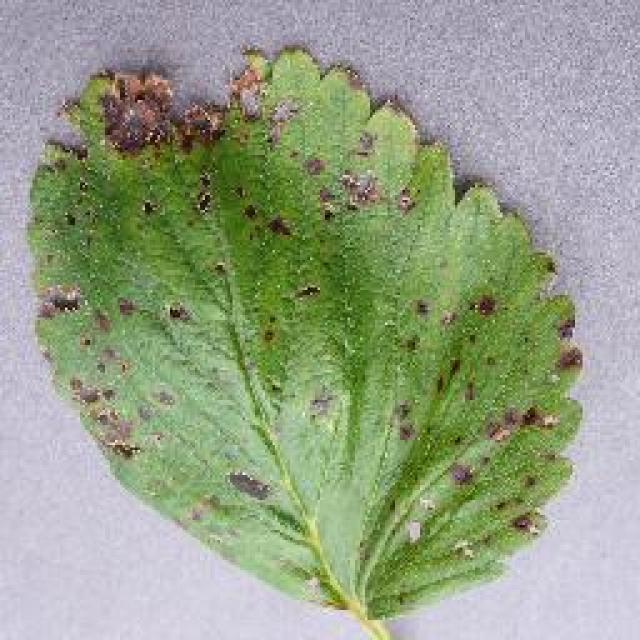Strawberry leaf scorch: (30, 58, 410, 495)
